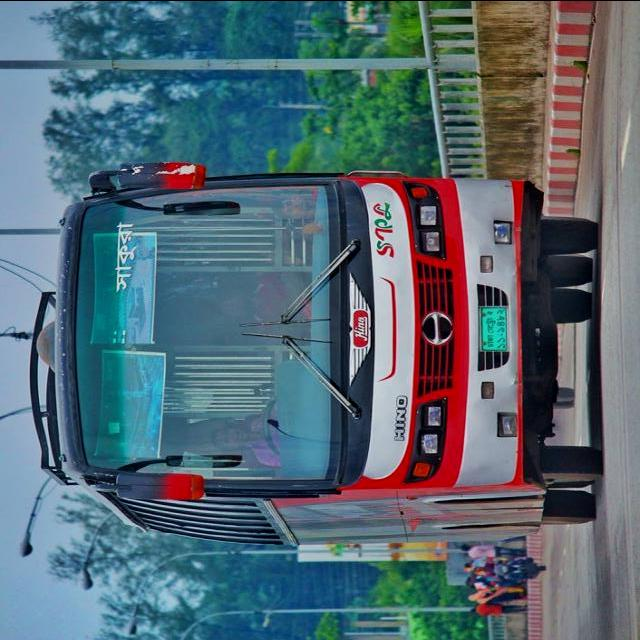bus: (28, 161, 604, 546)
